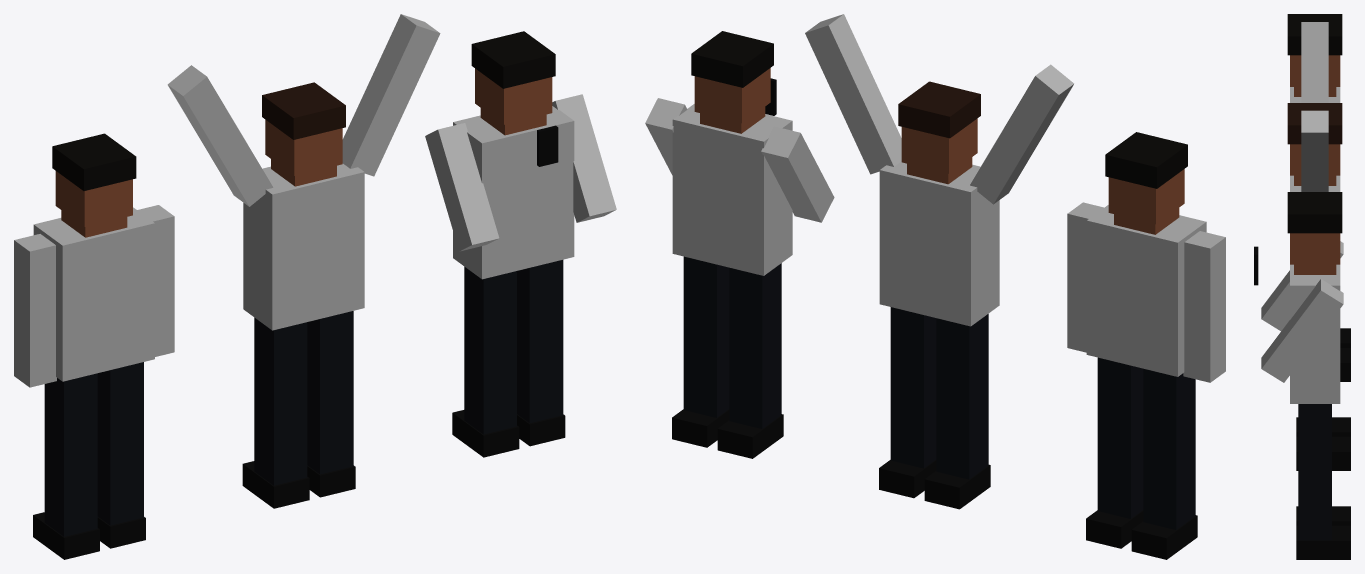
Rendered from crowd.glb.
The picture shows the model from 3 angles, left to right: view 1: azimuth 30°, elevation 25°; view 2: azimuth 150°, elevation 25°; view 3: azimuth 270°, elevation 25°; orthographic projection. The views are drawn at different scales.
Parts seen in each view (by area): view 1: person_1, person_0, person_2; view 2: person_1, person_0, person_2; view 3: person_2, person_1, person_0.
Boxes of the visible parts, left/top/right/bottom form: person_1: left=167, top=14, right=440, bottom=508; person_0: left=14, top=133, right=174, bottom=559; person_2: left=425, top=31, right=616, bottom=457; person_1: left=805, top=14, right=1074, bottom=509; person_0: left=1067, top=132, right=1225, bottom=559; person_2: left=645, top=31, right=834, bottom=458; person_2: left=1254, top=192, right=1350, bottom=559; person_1: left=1287, top=22, right=1350, bottom=470; person_0: left=1287, top=14, right=1350, bottom=381.
Bounding box in the file's own units: 2.69 × 2.03 × 0.46.
